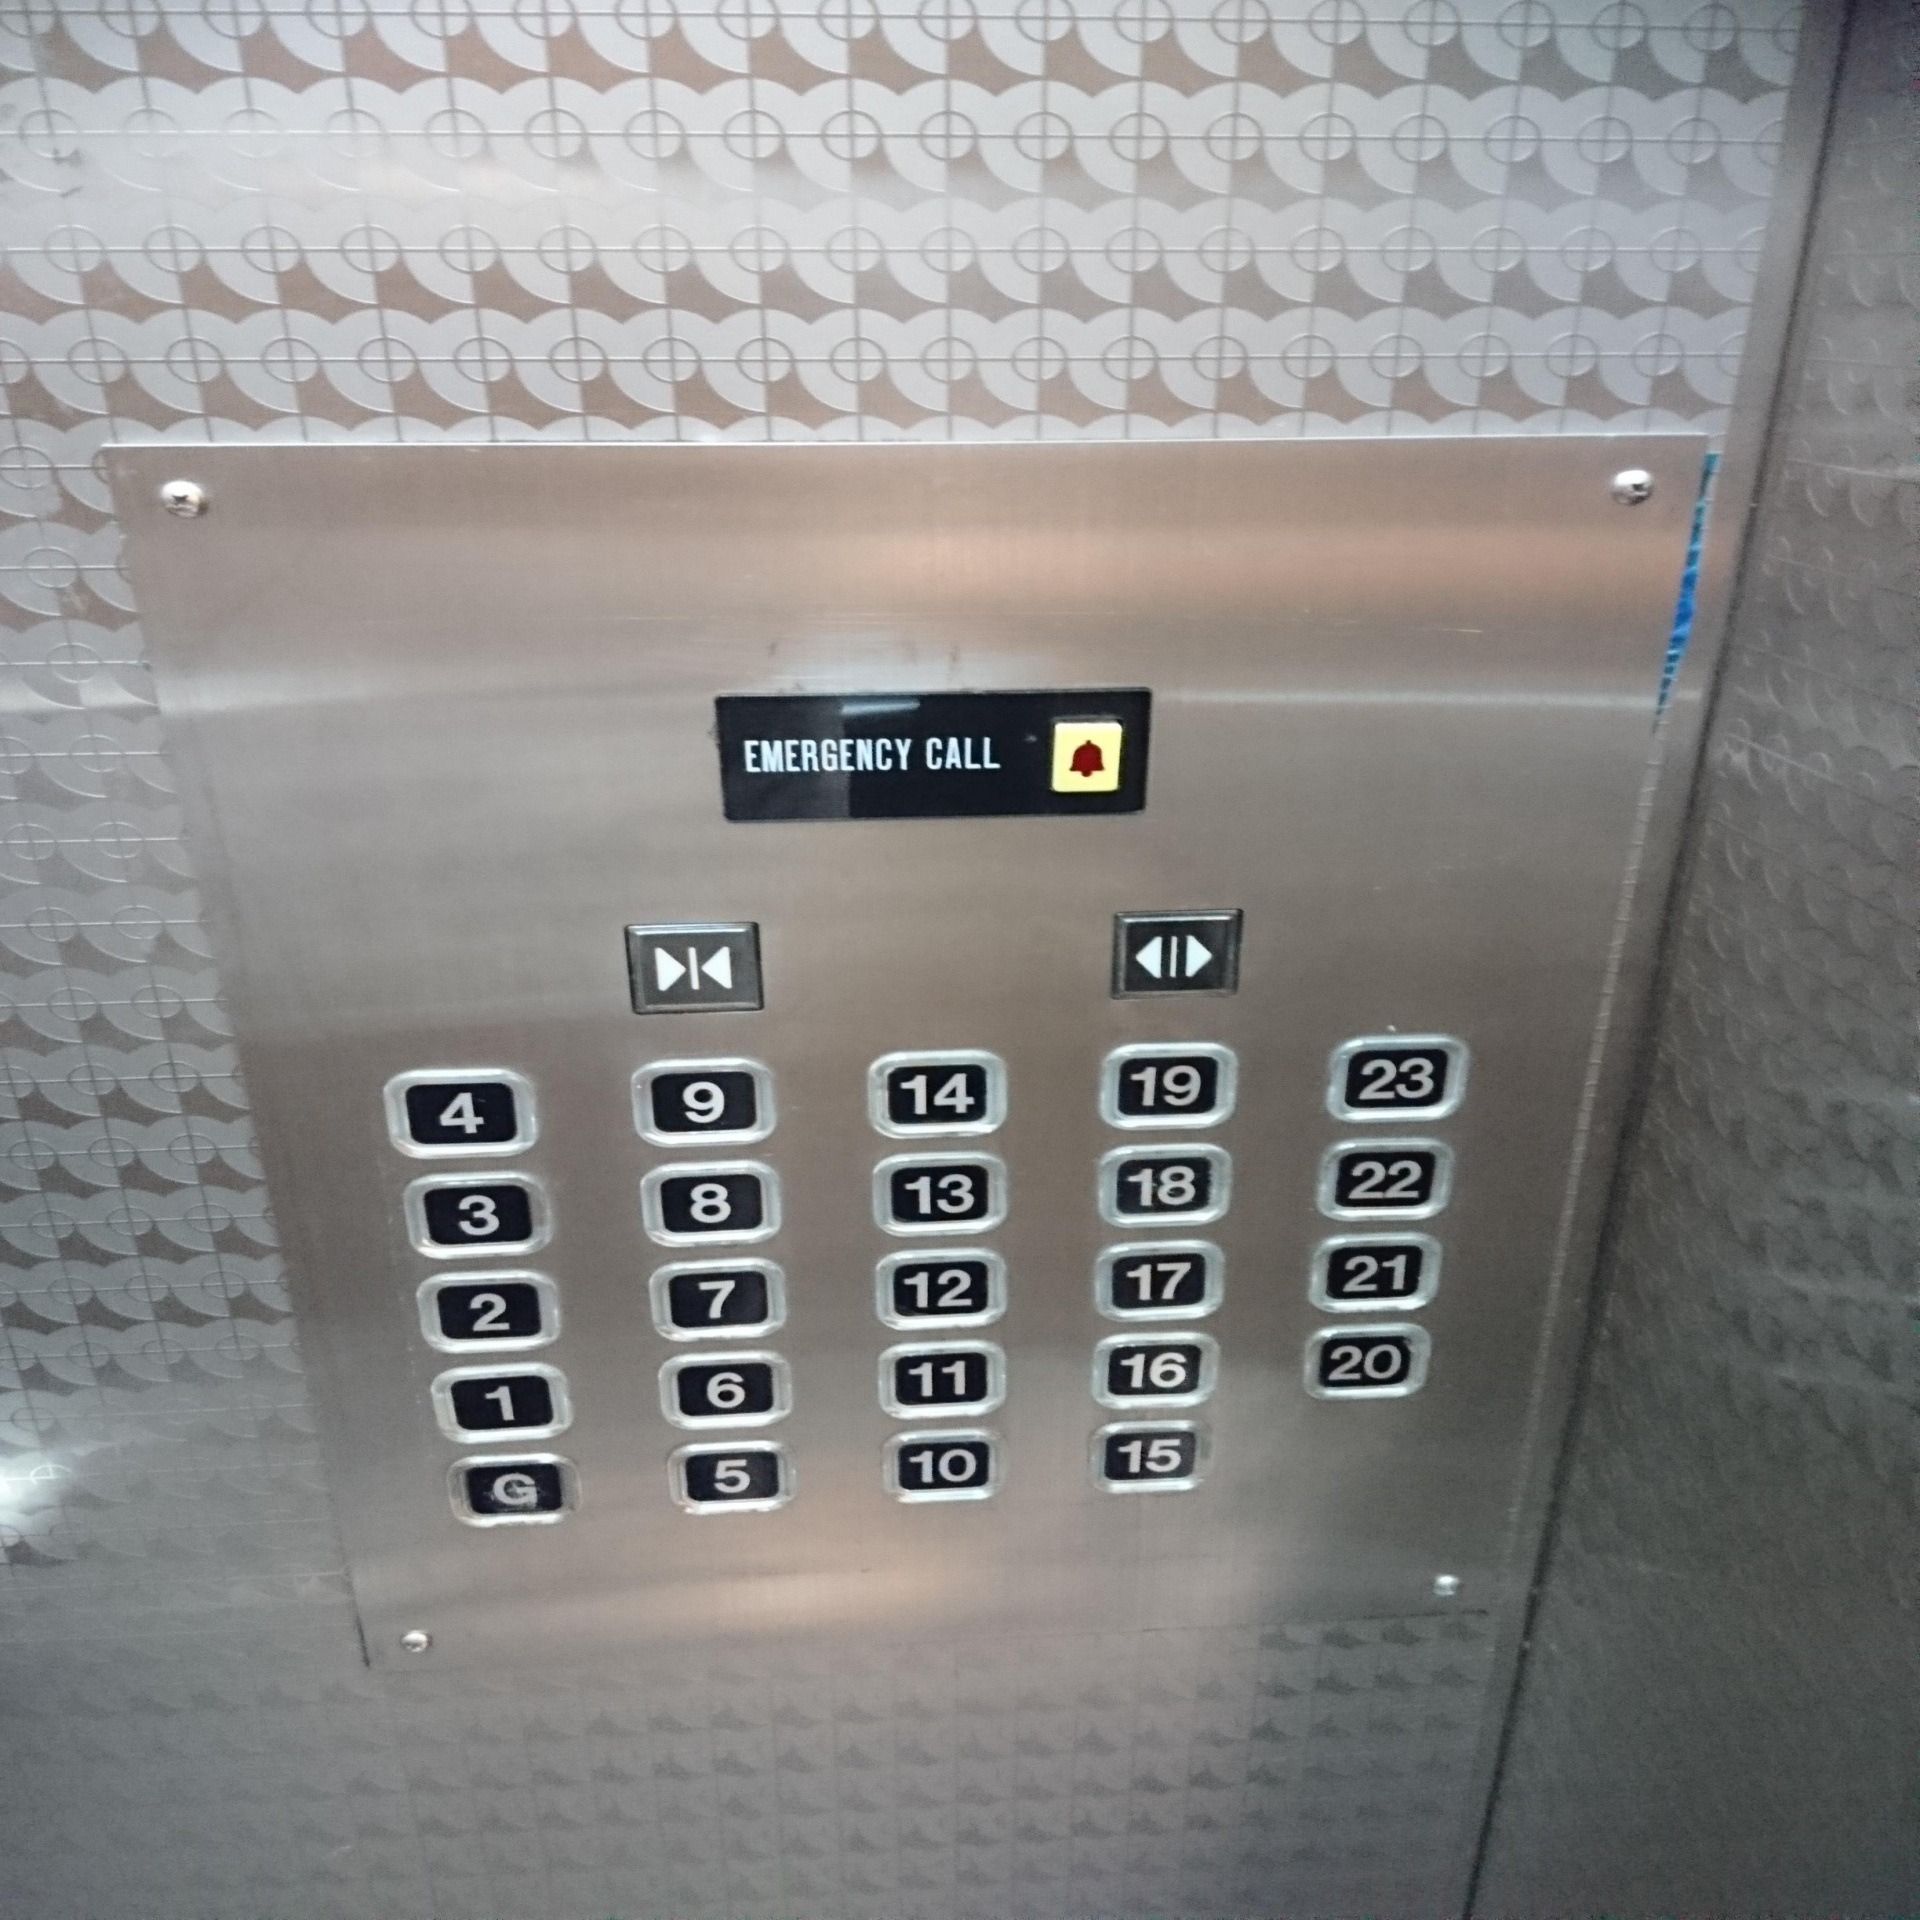1: (431, 1363, 571, 1444)
10: (883, 1429, 997, 1500)
11: (877, 1340, 1007, 1419)
12: (874, 1247, 1007, 1329)
13: (869, 1152, 1009, 1236)
14: (865, 1050, 1009, 1138)
15: (1092, 1421, 1210, 1493)
16: (1092, 1329, 1218, 1408)
17: (1092, 1240, 1225, 1322)
18: (1095, 1145, 1231, 1229)
19: (1099, 1043, 1238, 1127)
2: (417, 1269, 563, 1354)
20: (1303, 1322, 1429, 1400)
21: (1308, 1231, 1442, 1310)
22: (1317, 1139, 1451, 1220)
23: (1326, 1036, 1470, 1122)
3: (401, 1171, 554, 1261)
4: (382, 1067, 540, 1157)
5: (665, 1438, 798, 1517)
6: (658, 1350, 793, 1429)
7: (649, 1257, 788, 1342)
8: (638, 1160, 781, 1247)
9: (629, 1058, 777, 1146)
G: (447, 1454, 580, 1530)
alarm: (1046, 709, 1125, 796)
close: (617, 918, 767, 1020)
open: (1104, 900, 1255, 1004)
